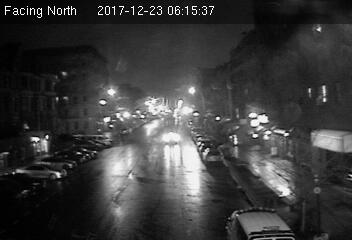car: (203, 147, 224, 164)
police: (225, 207, 294, 240)
